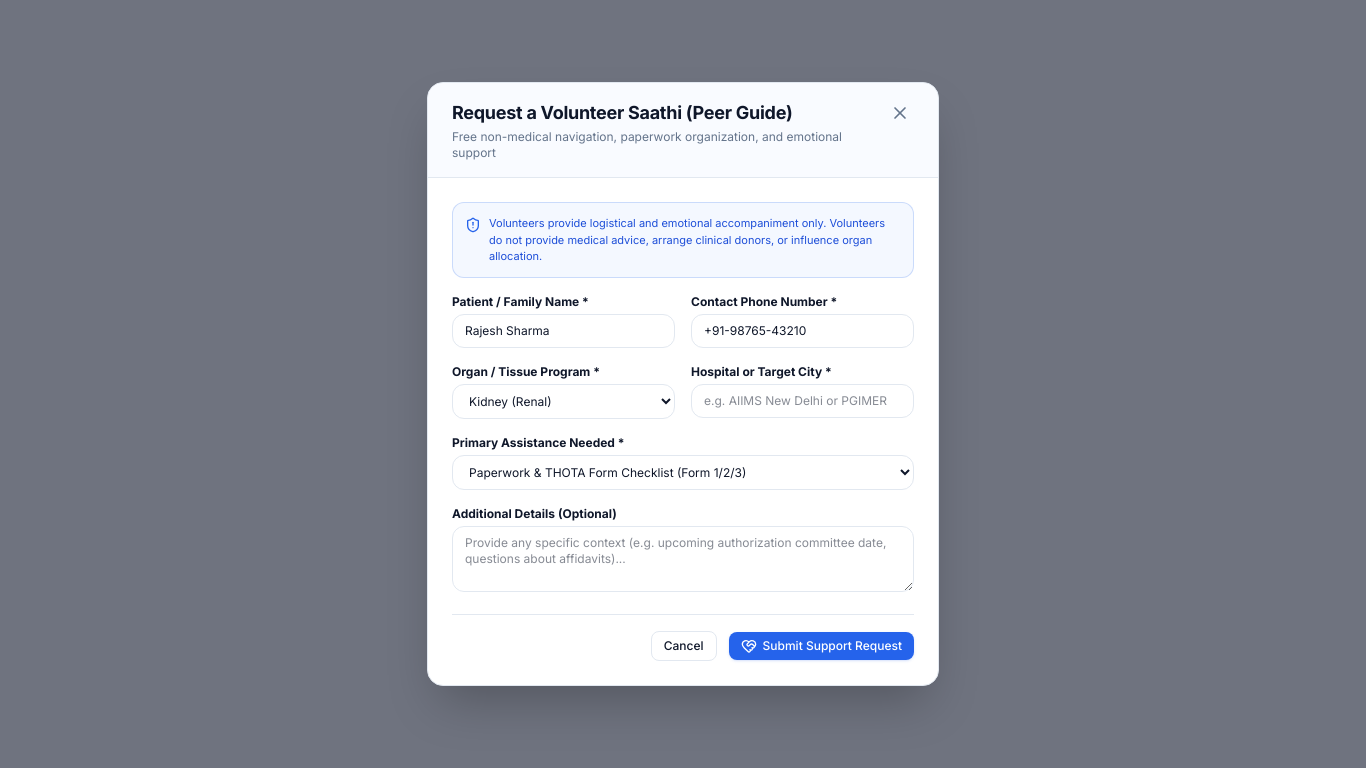
Test: Assistance Request Workflow & Expense Planner Suite › Assistance Request Submission & Input Validation › validates required fields before accepting assistance submission
Check: the text "Volunteers provide logistical and emotional accompaniment only" is shown, box top-left (489, 216), bottom-right (885, 263)
Clear the field with placeholder "e.g. Ramesh Kumar" below "Patient / Family Name *": (564, 331) top-left (452, 314), bottom-right (675, 348)
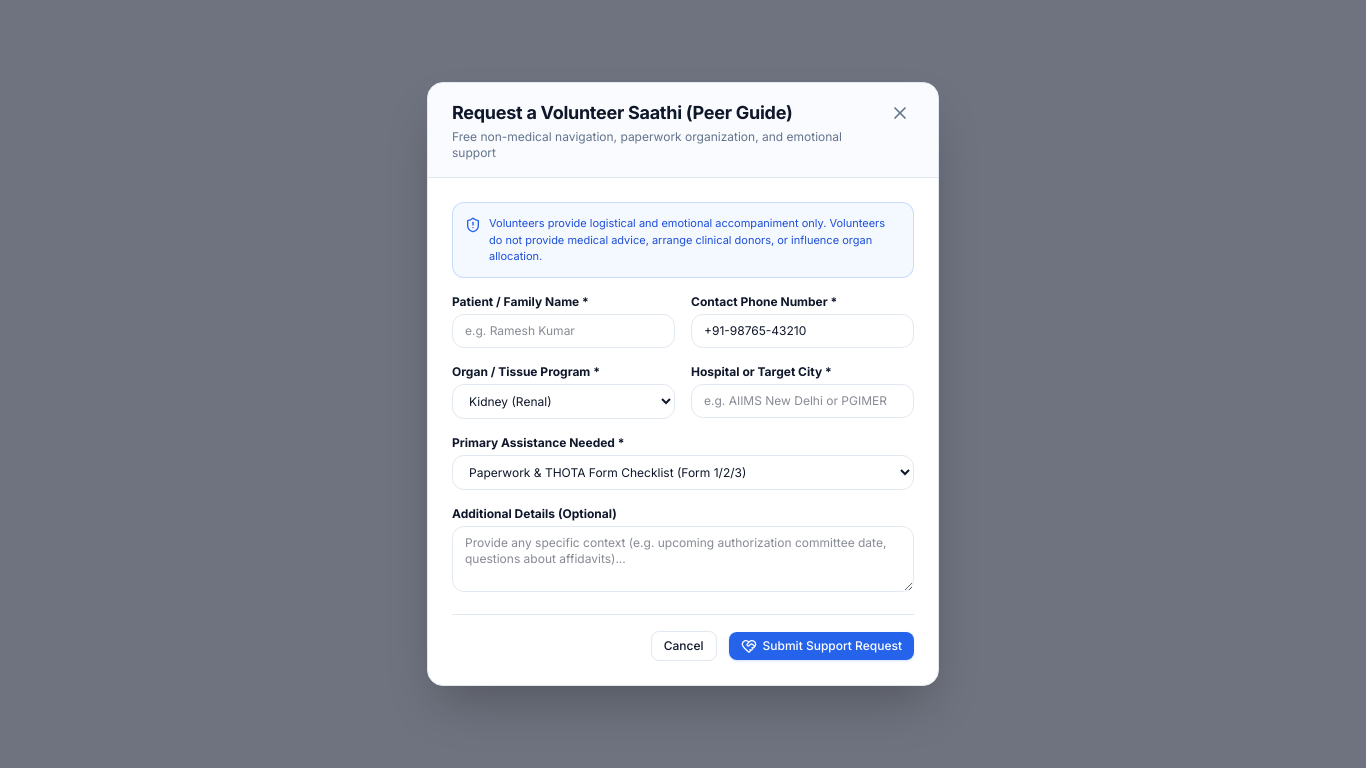
Clear the field with placeholder "e.g. +91 98765 43210": (802, 331) top-left (691, 314), bottom-right (914, 348)
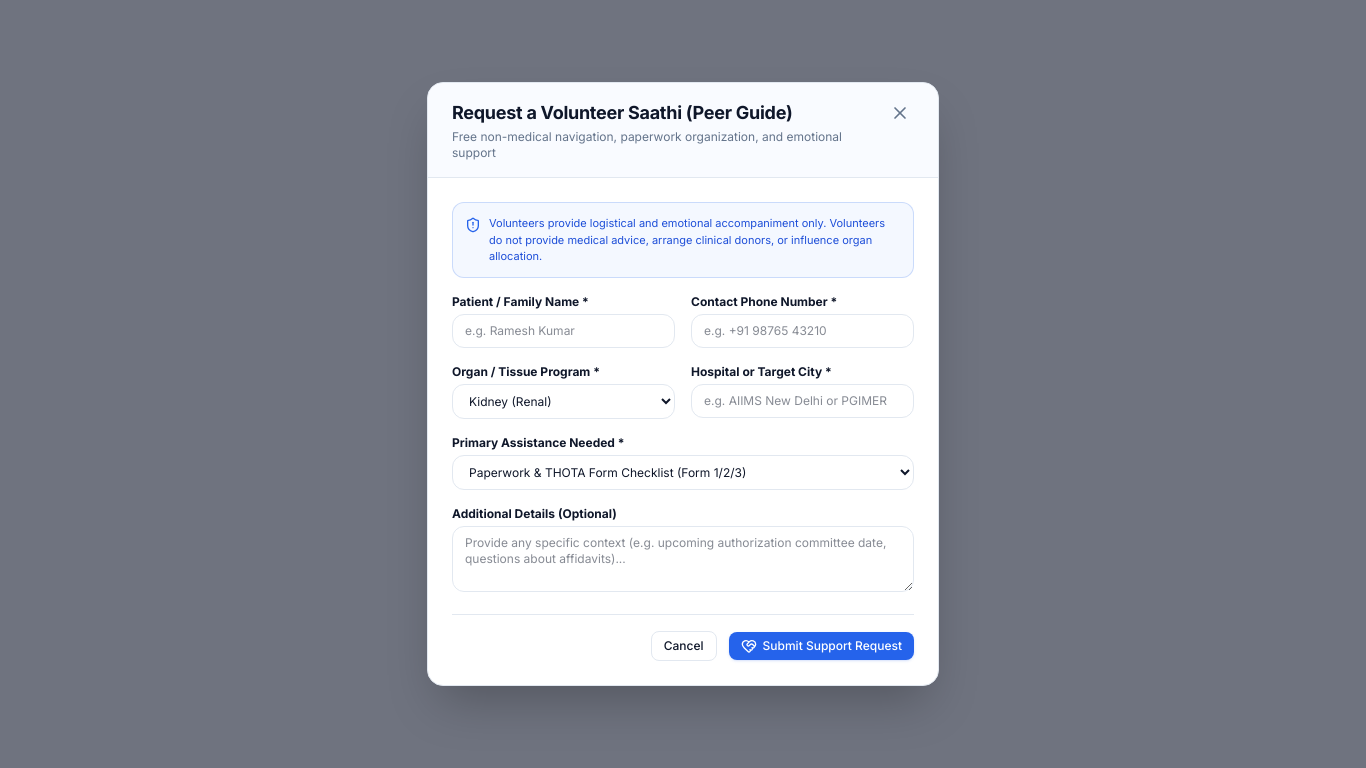
Click the button "Submit Support Request": (821, 646) top-left (729, 632), bottom-right (914, 660)
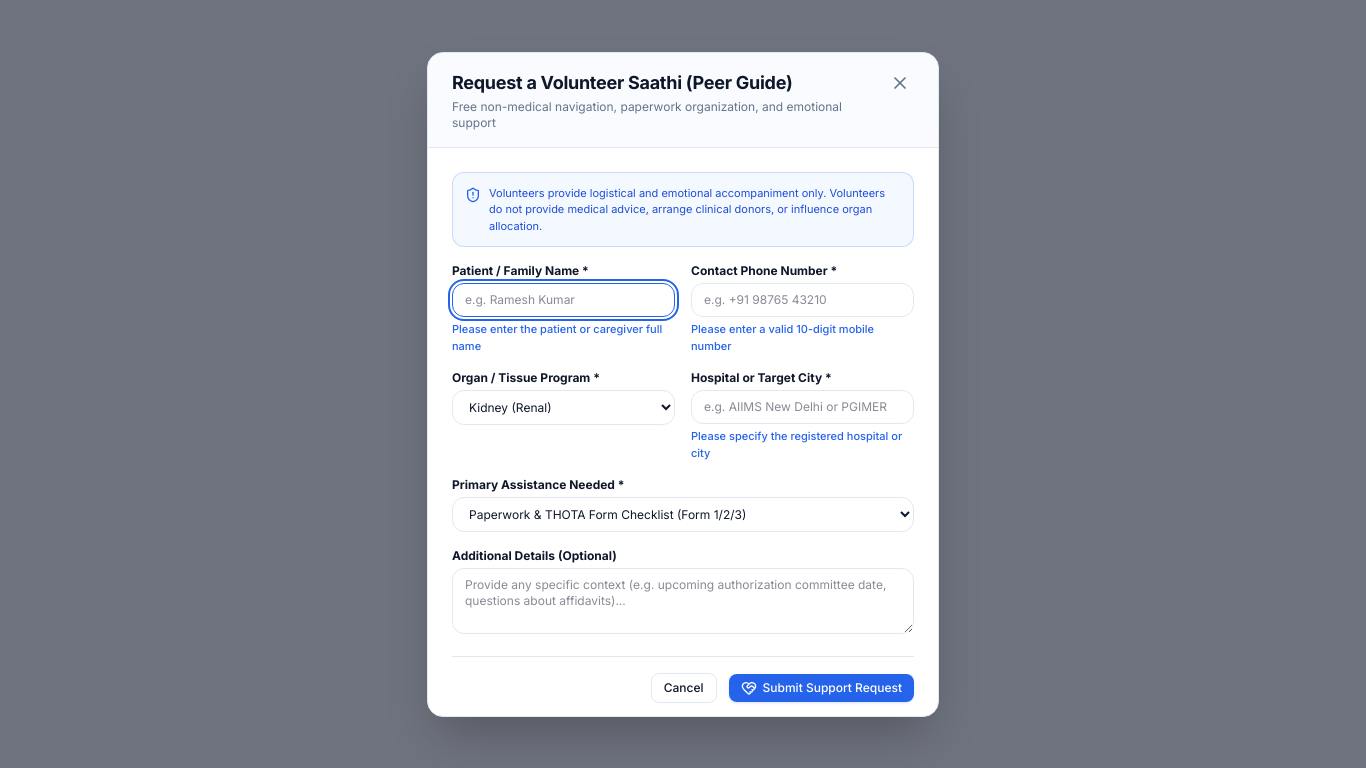
Check: the text "Please enter the patient or caregiver full name" is shown, box top-left (452, 321), bottom-right (675, 354)
Check: the text "Please enter a valid 10-digit mobile number" is shown, box top-left (691, 322), bottom-right (874, 352)
Check: the text "Please specify the registered hospital or city" is shown, box top-left (691, 428), bottom-right (914, 461)
